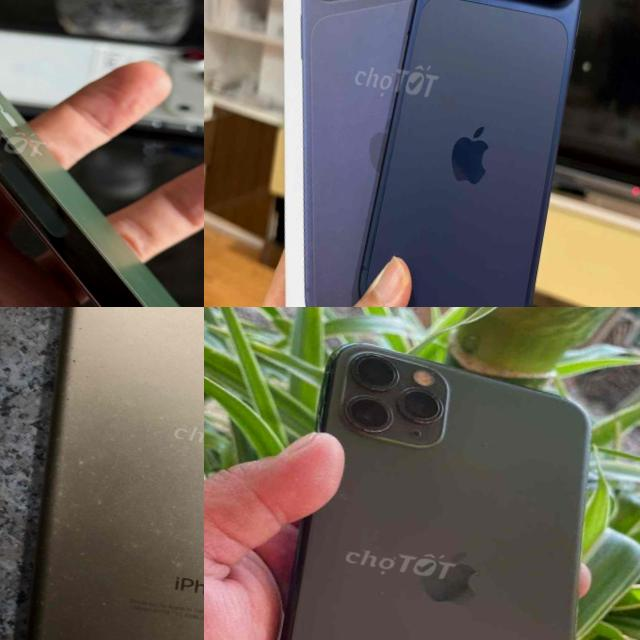gen_11: (281, 346, 588, 640)
gen_12_13: (0, 0, 204, 307)
gen_17: (350, 0, 615, 307)
gen_7_8: (0, 307, 204, 640)
scratch: (16, 420, 96, 589), (144, 508, 202, 578), (302, 342, 353, 394), (470, 422, 516, 456), (422, 367, 461, 397)
